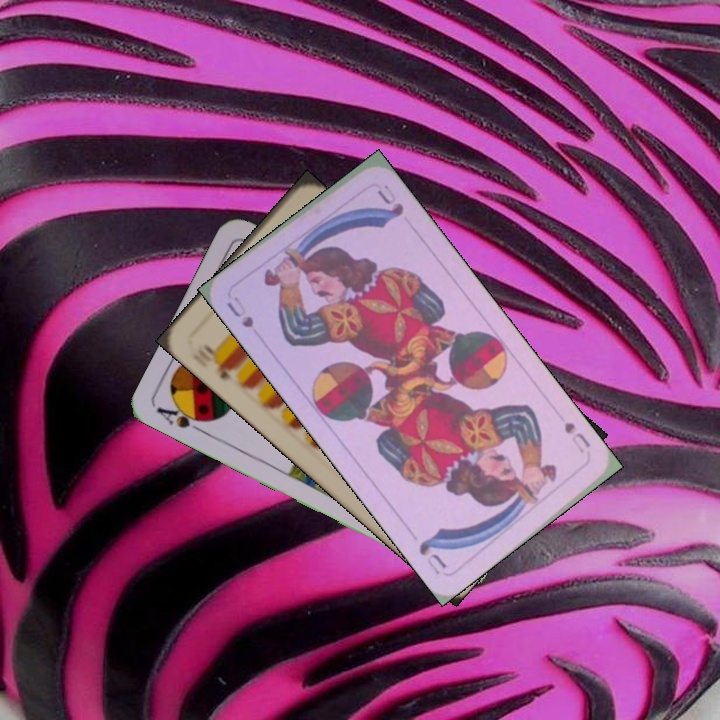E10: (199, 339, 239, 383)
SA: (152, 400, 212, 437)
SU: (222, 292, 257, 331), (560, 417, 594, 451)
